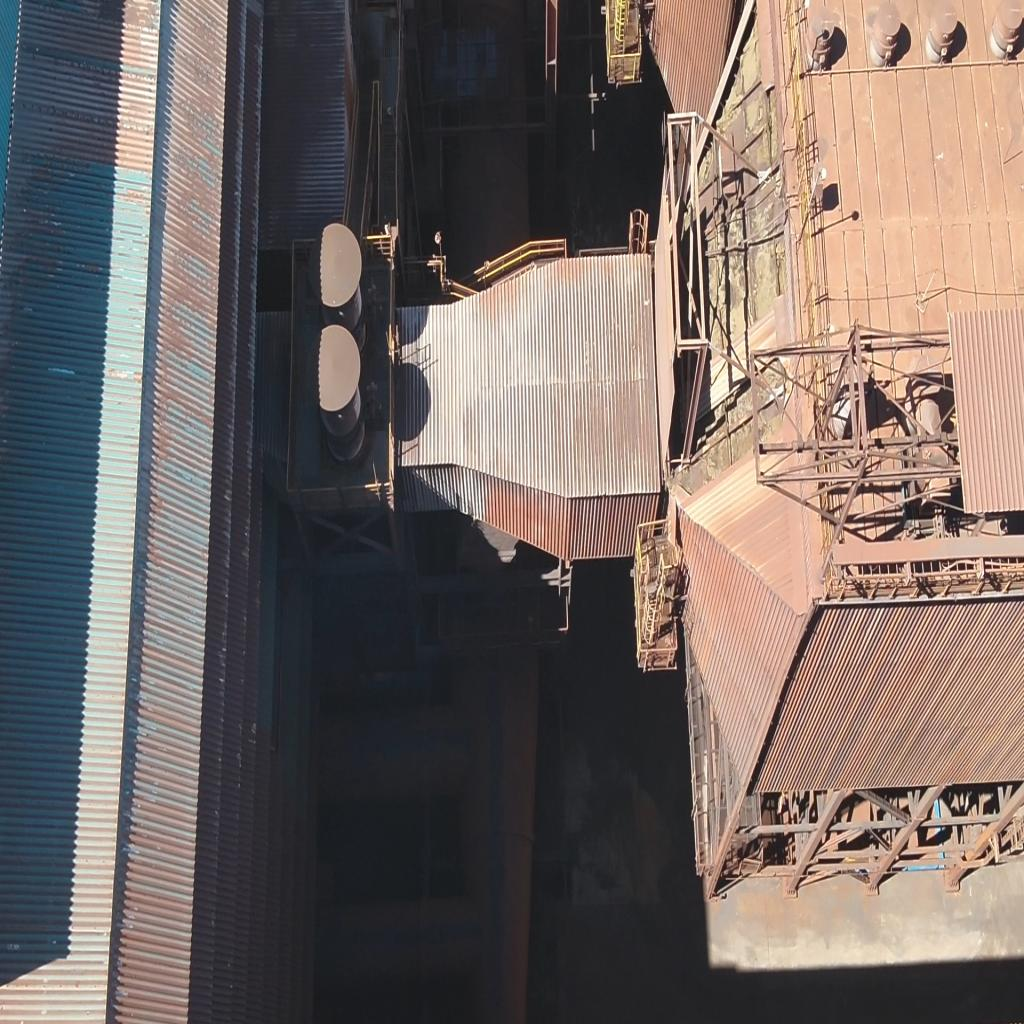Failures: (690, 20, 794, 432)
